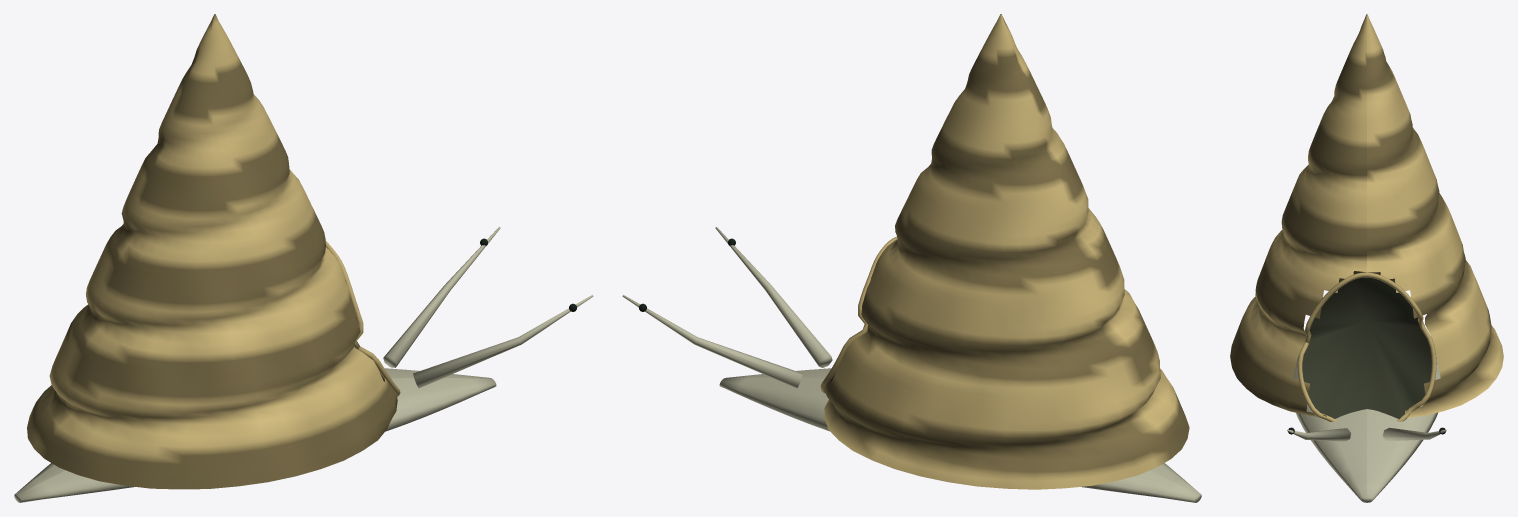
Rendered from assassin-mobile.glb.
3 views of the same model, side by side, from view 1: azimuth 30°, elevation 25°; view 2: azimuth 150°, elevation 25°; view 3: azimuth 270°, elevation 25° (orthographic). The views are drawn at different scales.
Visible parts, largest first — view 1: connected-whorled-shell, muscular-foot, cephalic-tentacle, aperture-lip; view 2: connected-whorled-shell, muscular-foot, cephalic-tentacle, aperture-lip; view 3: connected-whorled-shell, recessed-aperture, muscular-foot, aperture-lip, cephalic-tentacle.
Boxes of the visible parts, x1,y1,x2,y2 form: connected-whorled-shell: (27, 14, 397, 489); muscular-foot: (14, 368, 496, 502); cephalic-tentacle: (383, 227, 593, 388); aperture-lip: (325, 241, 400, 396); connected-whorled-shell: (824, 14, 1189, 489); muscular-foot: (719, 368, 1201, 502); cephalic-tentacle: (622, 227, 832, 388); aperture-lip: (820, 236, 897, 393); connected-whorled-shell: (1230, 14, 1503, 417); recessed-aperture: (1302, 277, 1431, 418); muscular-foot: (1293, 355, 1440, 502); aperture-lip: (1297, 272, 1436, 421); cephalic-tentacle: (1287, 427, 1446, 441).
Size of the model in its own units: 0.5905 by 0.469 by 0.3115.
